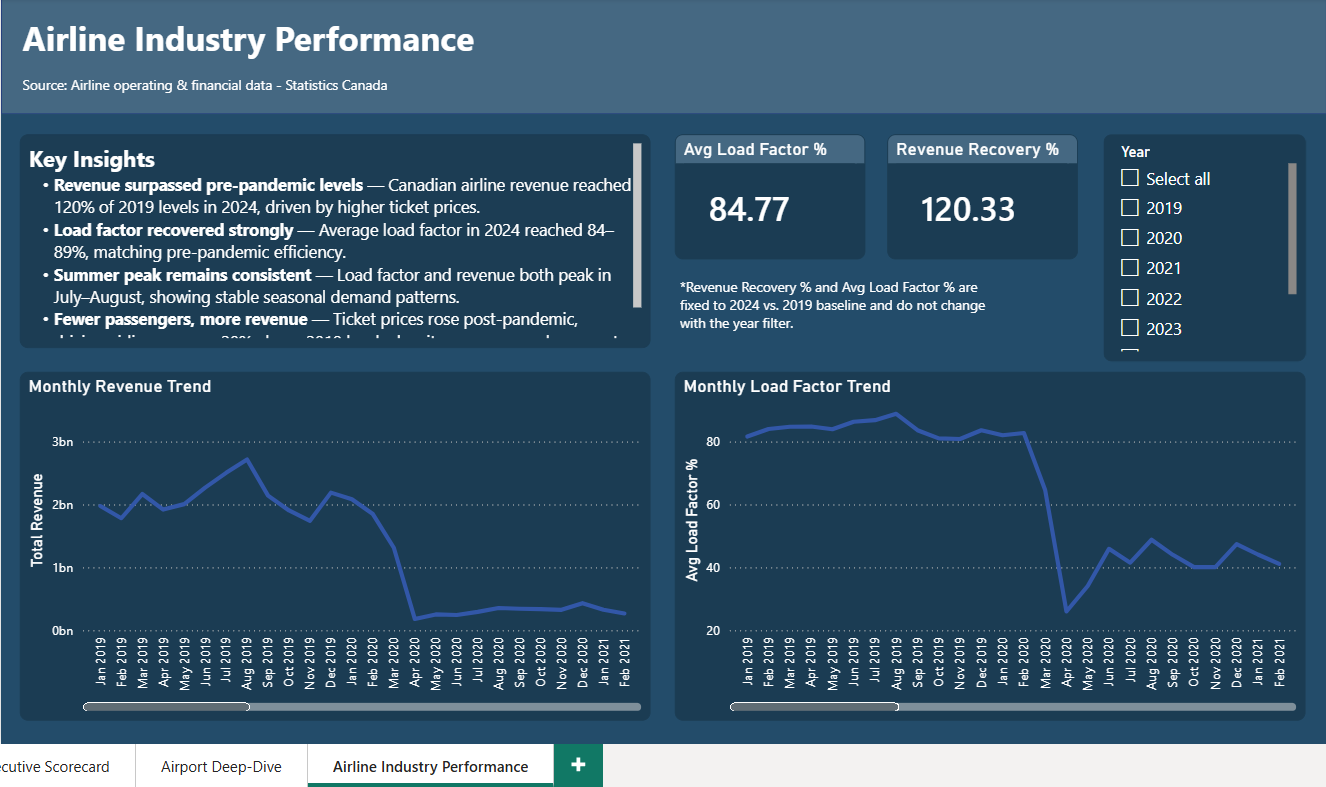

The dashboard page shown, as its layout file describes it:
{"tool":"powerbi","page":{"name":"Airline Industry Performance","canvas":[1280,720],"ordinal":2},"visuals":[{"type":"lineChart","title":"Monthly Load Factor Trend","fields":{"Y":["fact_airline_monthly.Avg Load Factor %"],"Category":["dim_date.year_month_label"]},"box":[649.7,360.6,609,336.8],"z":0},{"type":"slicer","fields":{"Values":["dim_date.year"]},"box":[1063.6,131.9,195,218.9],"z":1000},{"type":"lineChart","title":"Monthly Revenue Trend","fields":{"Category":["dim_date.year_month_label"],"Y":["fact_airline_monthly.Total Revenue"]},"box":[18.2,360.6,609,336.8],"z":2000},{"type":"cardVisual","title":"Revenue Recovery %","fields":{"Data":["fact_airline_monthly.Revenue Recovery %"]},"box":[856,131.9,183.8,120.7],"z":3000},{"type":"cardVisual","title":"Avg Load Factor %","fields":{"Data":["fact_airline_monthly.Avg Load Factor % 2024"]},"box":[649.7,131.9,183.8,120.7],"z":4000},{"type":"textbox","box":[18.2,131.9,609,206.3],"z":5000},{"type":"textbox","box":[649.7,263.8,315.7,74.4],"z":6000},{"type":"shape","box":[0,0,1279.7,112.3],"z":7000},{"type":"textbox","title":"Canadian Aviation Recovery","box":[15.4,12.6,523.4,57.5],"z":8000},{"type":"textbox","box":[15.4,70.2,471.5,30.9],"z":9000}]}

Visuals, with their boxes on the page's 1280x720 design canvas (x1, y1, x2, y2). These are canvas units, not pixel positions in the 1326x787 screenshot, which may show the page scaled, cropped or inside an application window:
"Monthly Load Factor Trend" lineChart: (650,361,1259,697)
slicer - dim_date.year: (1064,132,1259,351)
"Monthly Revenue Trend" lineChart: (18,361,627,697)
"Revenue Recovery %" cardVisual: (856,132,1040,253)
"Avg Load Factor %" cardVisual: (650,132,834,253)
textbox: (18,132,627,338)
textbox: (650,264,965,338)
shape: (0,0,1280,112)
"Canadian Aviation Recovery" textbox: (15,13,539,70)
textbox: (15,70,487,101)
